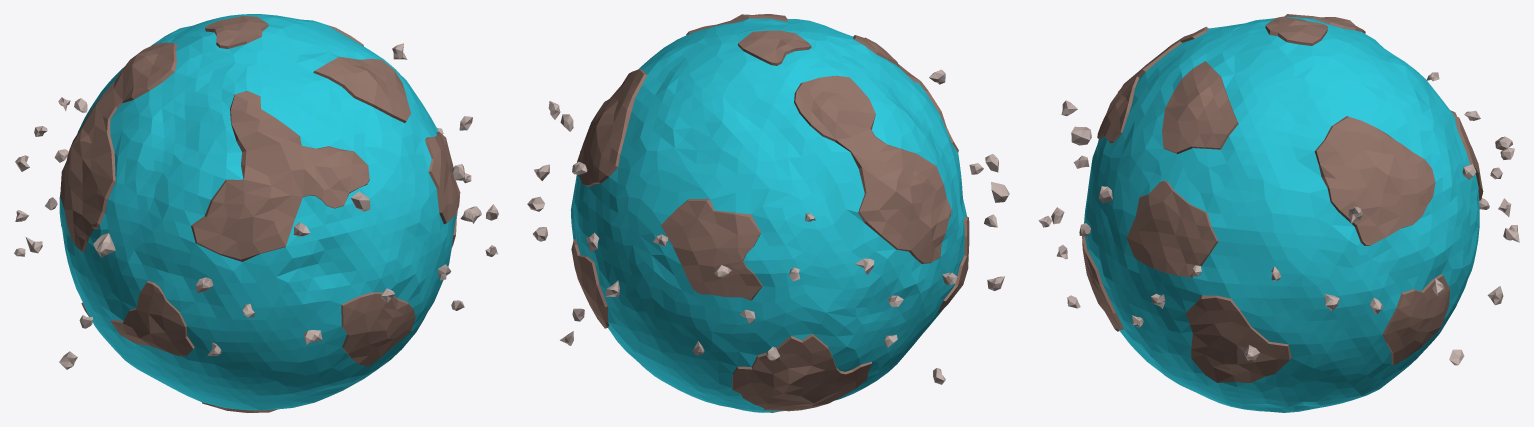
The model's file is Planet_8.glb.
The picture shows the model from 3 angles, left to right: view 1: azimuth 30°, elevation 25°; view 2: azimuth 150°, elevation 25°; view 3: azimuth 270°, elevation 25°; orthographic projection.
Parts seen in each view (by area): view 1: Planet_8; view 2: Planet_8; view 3: Planet_8.
Boxes of the visible parts, <box> form: Planet_8: <box>14,14,498,412</box>; Planet_8: <box>527,14,1009,412</box>; Planet_8: <box>1038,14,1519,412</box>.
Size of the model in its own units: 24.37 by 20.42 by 24.26.
Materials: 1 (1 with a texture image).
